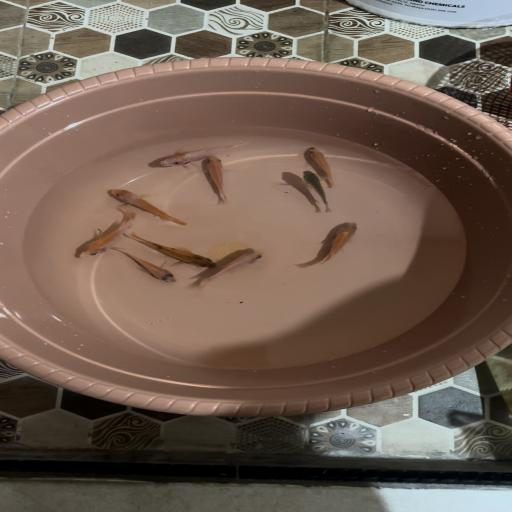nila: (100, 187, 202, 226), (71, 204, 140, 258), (300, 215, 364, 272), (132, 228, 218, 270), (196, 247, 272, 290), (148, 140, 254, 169), (108, 248, 178, 291), (198, 158, 250, 206), (296, 143, 348, 188), (292, 169, 340, 214)
